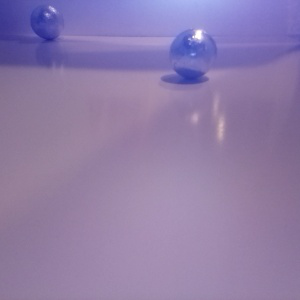alive_ball: (169, 29, 216, 79), (31, 5, 63, 40)
